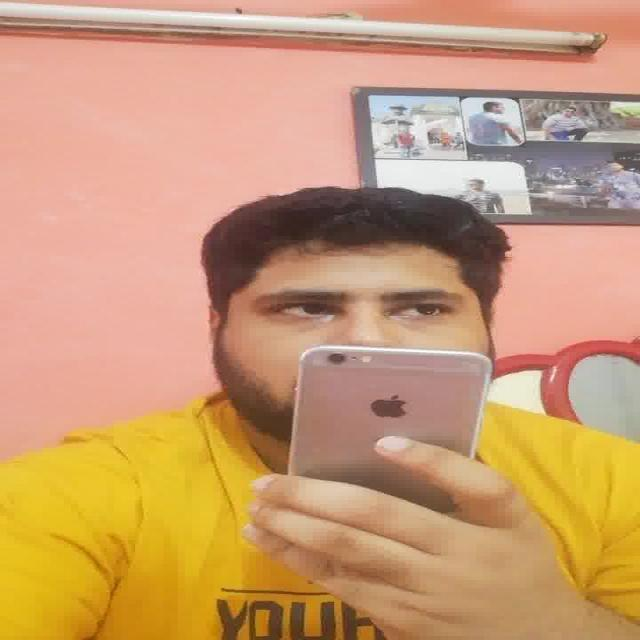Phone: (288, 342, 492, 483)
